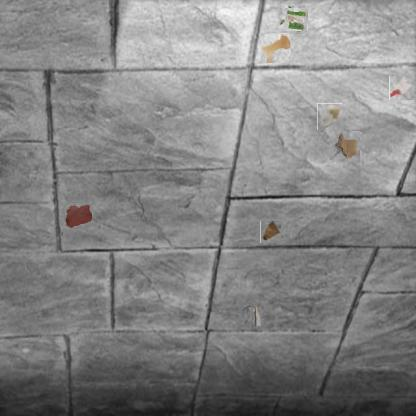dirty: (331, 131, 361, 161), (280, 6, 307, 33), (238, 303, 264, 329), (317, 103, 342, 130), (390, 76, 414, 101), (260, 221, 281, 243)
liquid: (261, 33, 291, 63), (64, 202, 92, 228)
